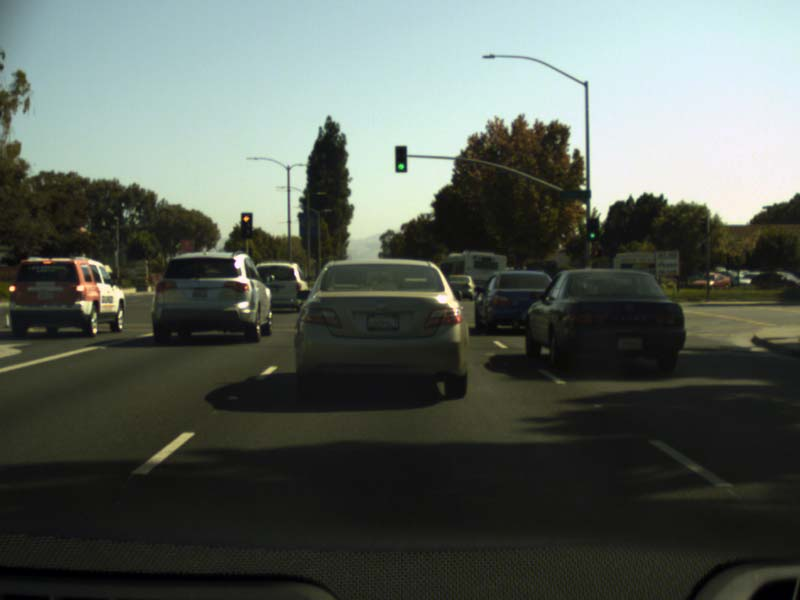Green: (395, 145, 406, 172), (587, 218, 598, 241)
Red: (241, 213, 251, 238), (591, 247, 601, 256)
